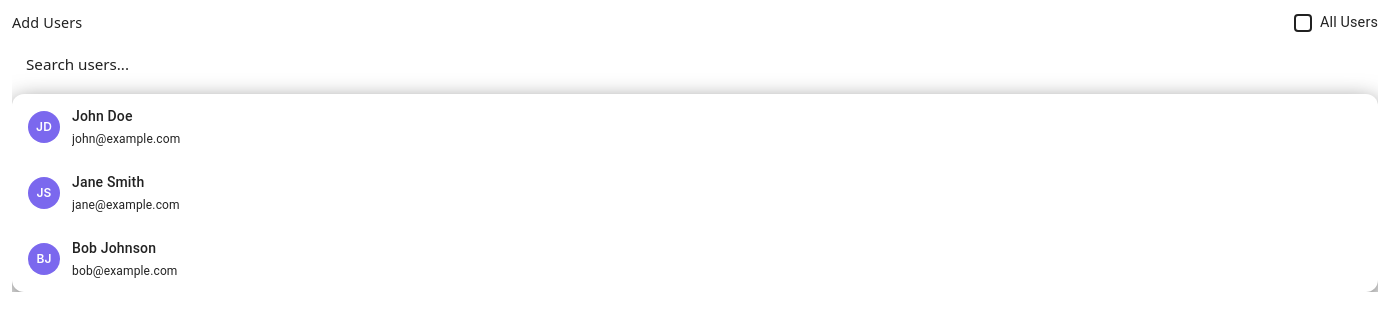
Scenario: UserSelectionPanel › Search Functionality › should filter users by full name
Step 1. Type "Jane" into the field with placeholder "Search users..." → [695, 64], box [12,42,1378,86]
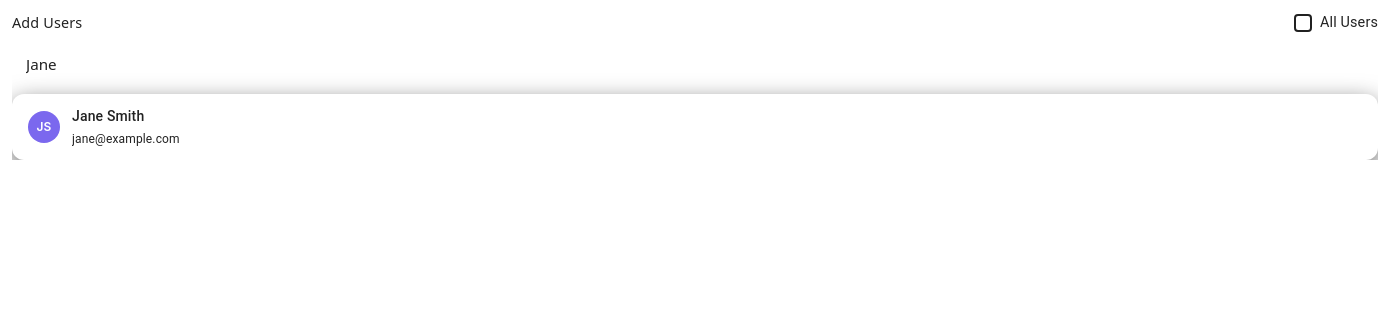
Expected: the button "John Doe" is gone
